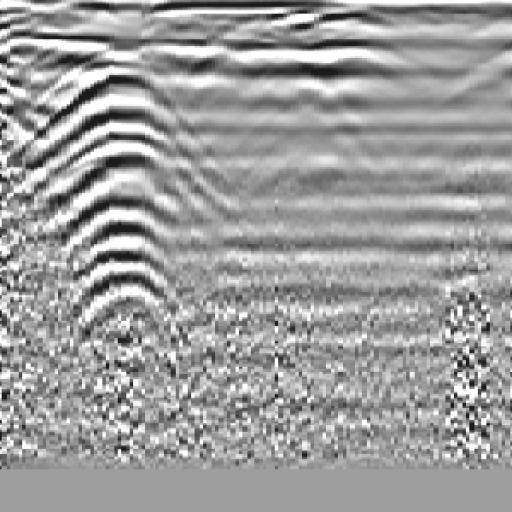metalic: (18, 48, 230, 339)
